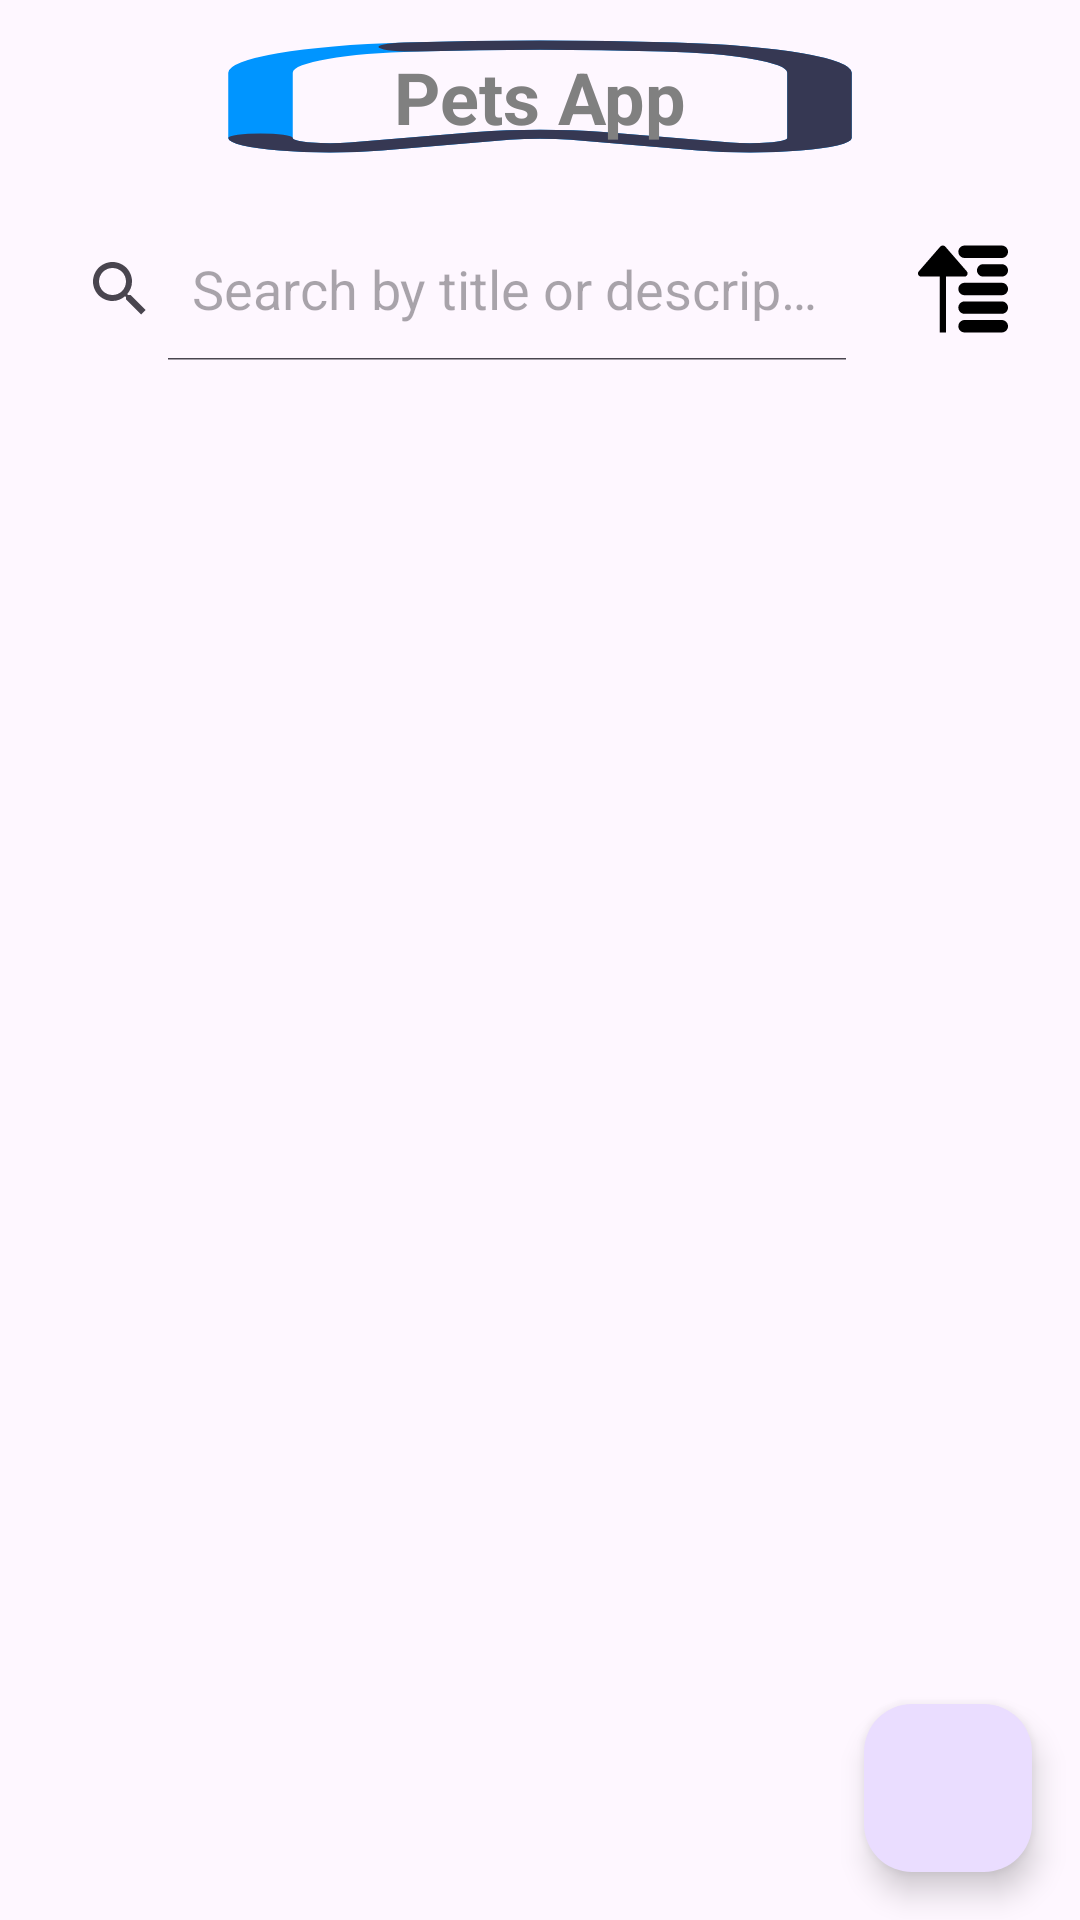

Icon bounding boxes for this 1080w x 1920h phone screenshot, format rect(x1, y1, x2, y2):
sort by asc: rect(918, 245, 1008, 333)
